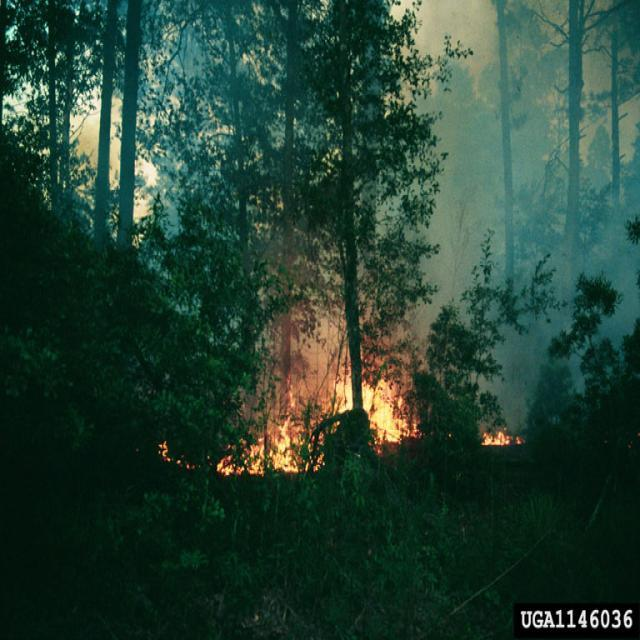Fire: (216, 343, 418, 477)
